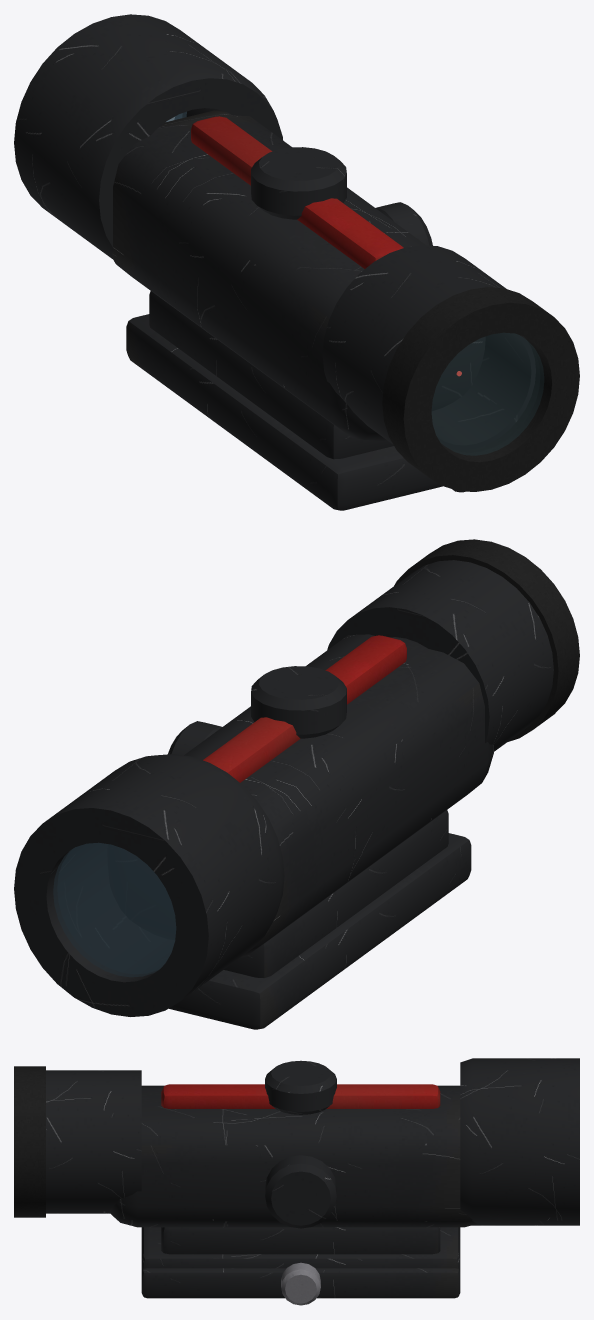
The model's file is Optic_Scope4x.glb.
3 views of the same model, one above another, from view 1: azimuth 30°, elevation 25°; view 2: azimuth 150°, elevation 25°; view 3: azimuth 270°, elevation 25° (orthographic). The views are drawn at different scales.
Parts seen in each view (by area): view 1: Optic_Scope4x_Body; view 2: Optic_Scope4x_Body; view 3: Optic_Scope4x_Body.
Boxes of the visible parts, left/top/right/bottom form: Optic_Scope4x_Body: left=14, top=14, right=579, bottom=510; Optic_Scope4x_Body: left=14, top=539, right=579, bottom=1029; Optic_Scope4x_Body: left=14, top=1058, right=579, bottom=1305.
Size of the model in its own units: 0.046 by 0.057 by 0.142.
7 materials, 4 textured.
